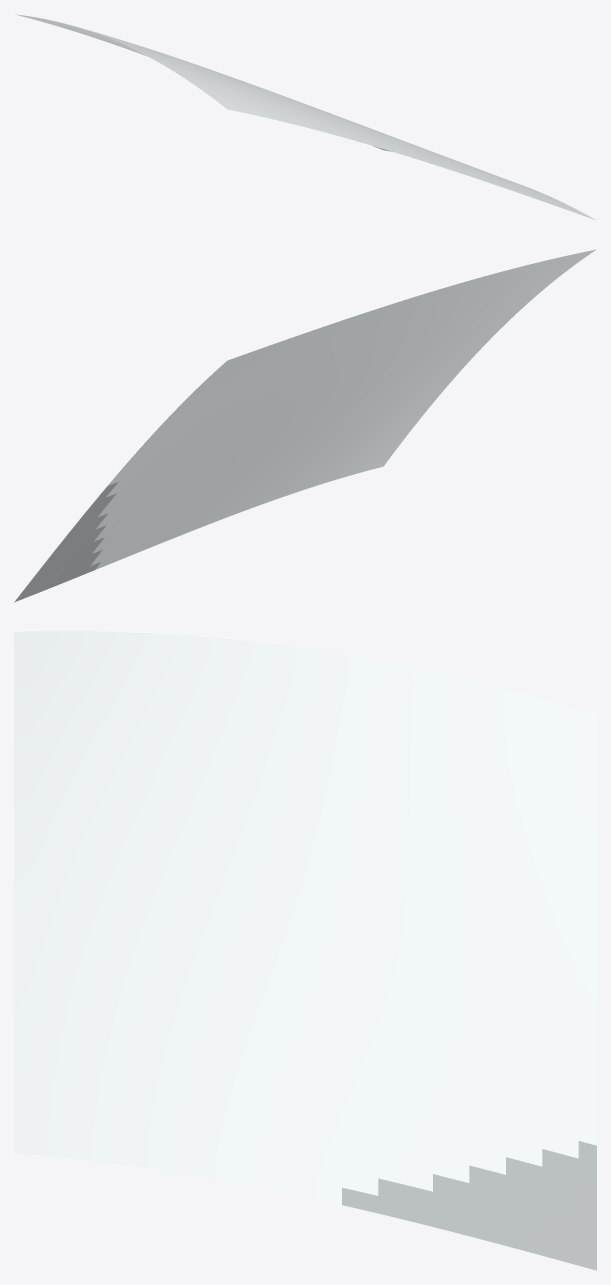
File: alpine-9-6.glb
3 views of the same model, one above another, from view 1: azimuth 30°, elevation 25°; view 2: azimuth 150°, elevation 25°; view 3: azimuth 270°, elevation 25° (orthographic). The views are drawn at different scales.
Parts seen in each view (by area): view 1: alpine-9-6; view 2: alpine-9-6; view 3: alpine-9-6.
Part boxes in pixels (bbox=[...]): alpine-9-6: bbox=[15, 14, 595, 219]; alpine-9-6: bbox=[14, 249, 596, 602]; alpine-9-6: bbox=[14, 631, 596, 1270].
Bounding box in the file's own units: 256 × 190 × 256.
2 materials, 2 textured.
